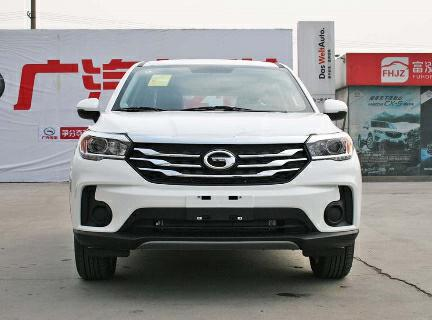广汽传祺-传祺GS4: (69, 56, 369, 289)
